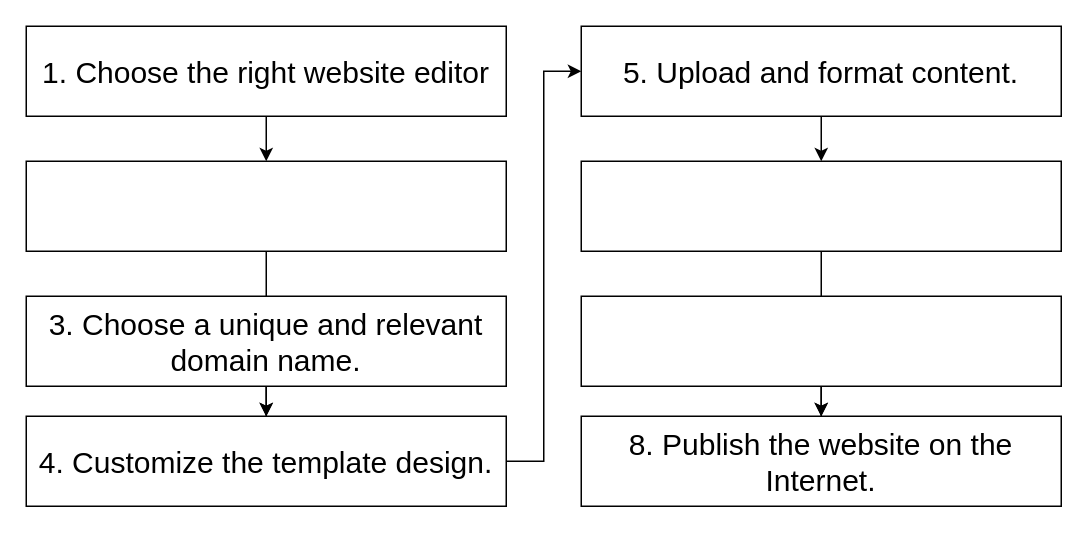
This 1088x533 diagram has some shape labels left out. The centre of each missing label's shape, as x and y in pixels:
"2. A plan that fits needs and budget." goes at point (265, 205).
"6. Select and download the application." goes at point (820, 205).
"7. Preview and test the website." goes at point (820, 340).
